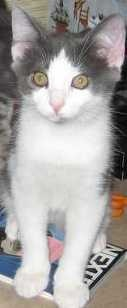Cat: (5, 16, 126, 307)
